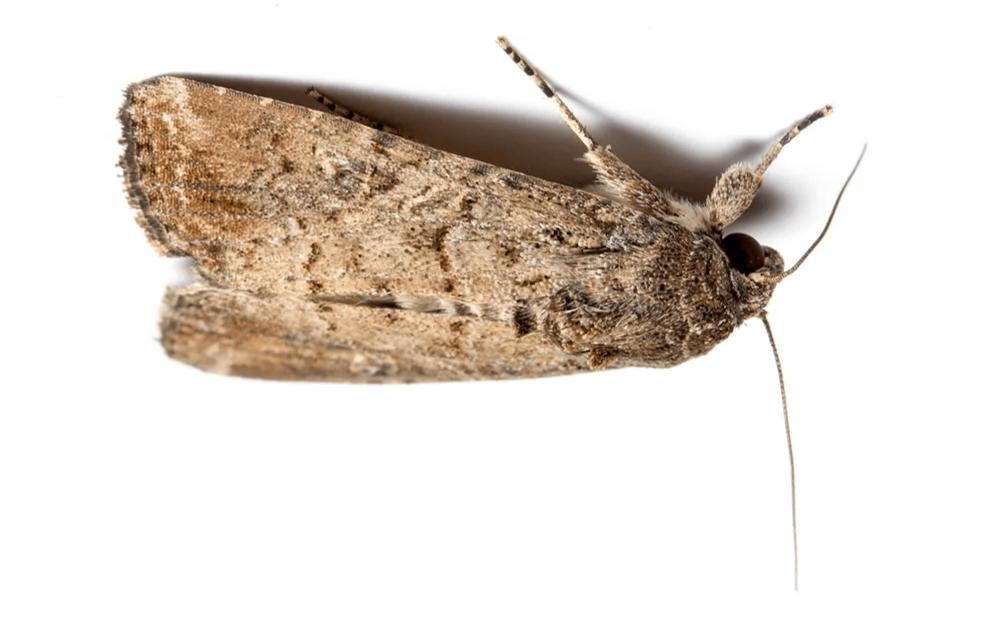army worm adult: (91, 4, 881, 598)
